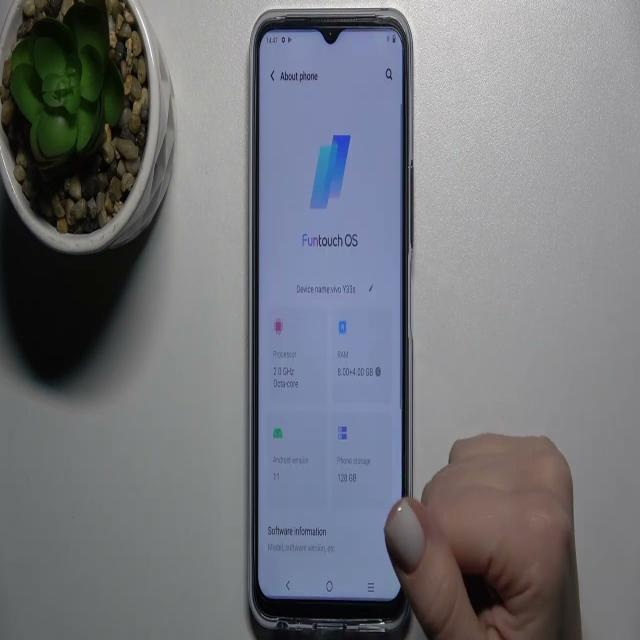mobile phone: (246, 6, 414, 636)
